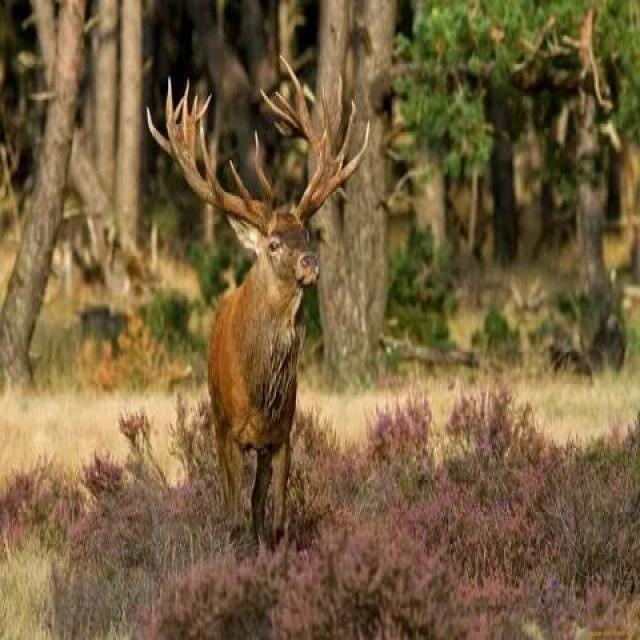deer: (124, 36, 368, 532)
